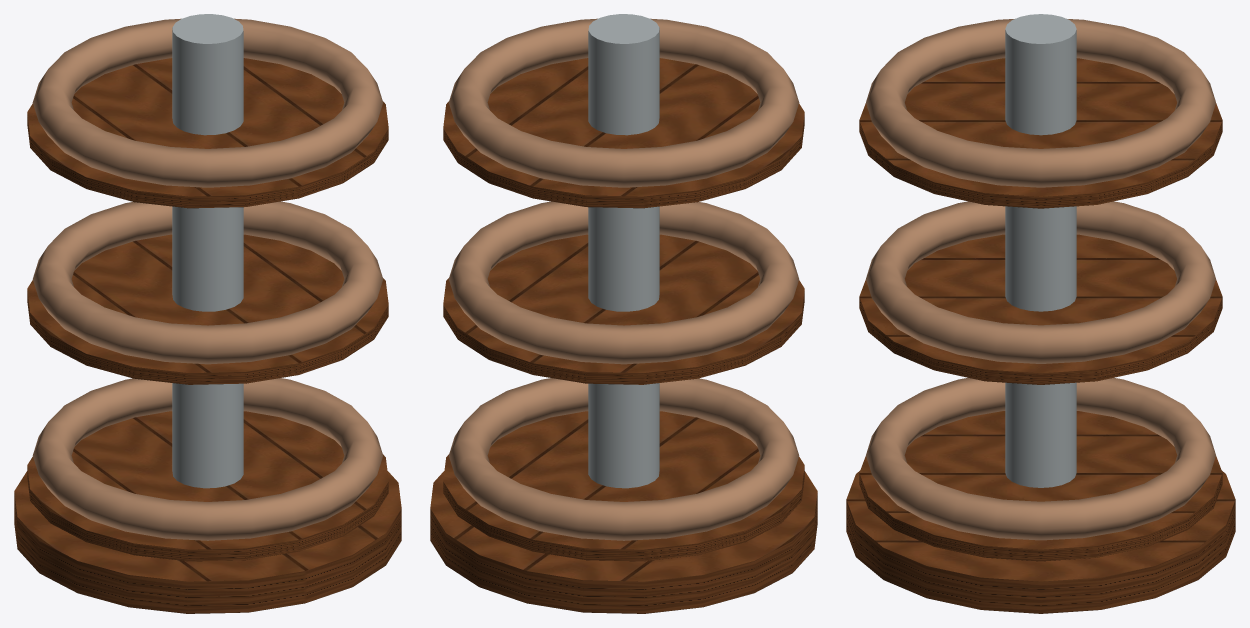
The model's file is salvage-and-repair-workshop-coil-storage-spindle-c90cd624__25505.glb.
The picture shows the model from 3 angles, left to right: view 1: azimuth 30°, elevation 25°; view 2: azimuth 150°, elevation 25°; view 3: azimuth 270°, elevation 25°; orthographic projection.
Visible parts, largest first — view 1: coil-storage-spindle; view 2: coil-storage-spindle; view 3: coil-storage-spindle.
Boxes of the visible parts, x1,y1,x2,y2 form: coil-storage-spindle: (14, 14, 401, 613); coil-storage-spindle: (430, 14, 817, 613); coil-storage-spindle: (846, 14, 1235, 613).
Bounding box in the file's own units: 0.6 × 0.855 × 0.6.
3 materials, 1 textured.
